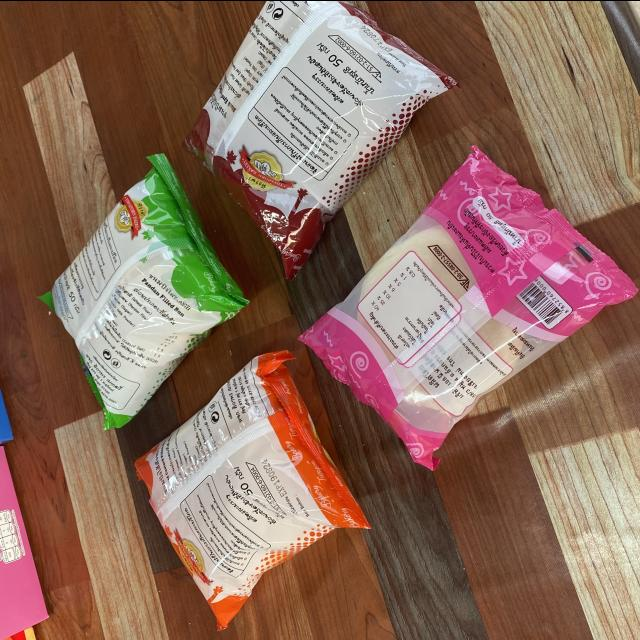plastik: (300, 146, 636, 468), (185, 0, 457, 278), (135, 350, 368, 629), (40, 153, 249, 428)
